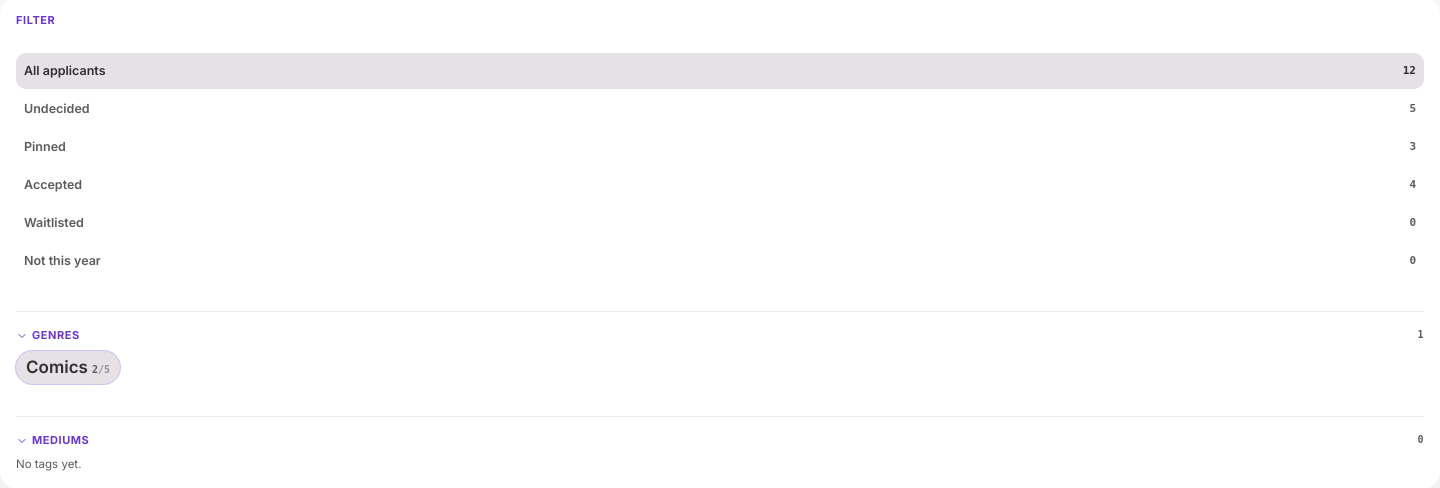
SelectionSidebar › collapses the tag section when the header toggle is clicked
expect the text "Comics" is shown: met, box [26,355,88,380]
Click the button "Genres 1" at point(56, 335), box [16,328,1424,343]
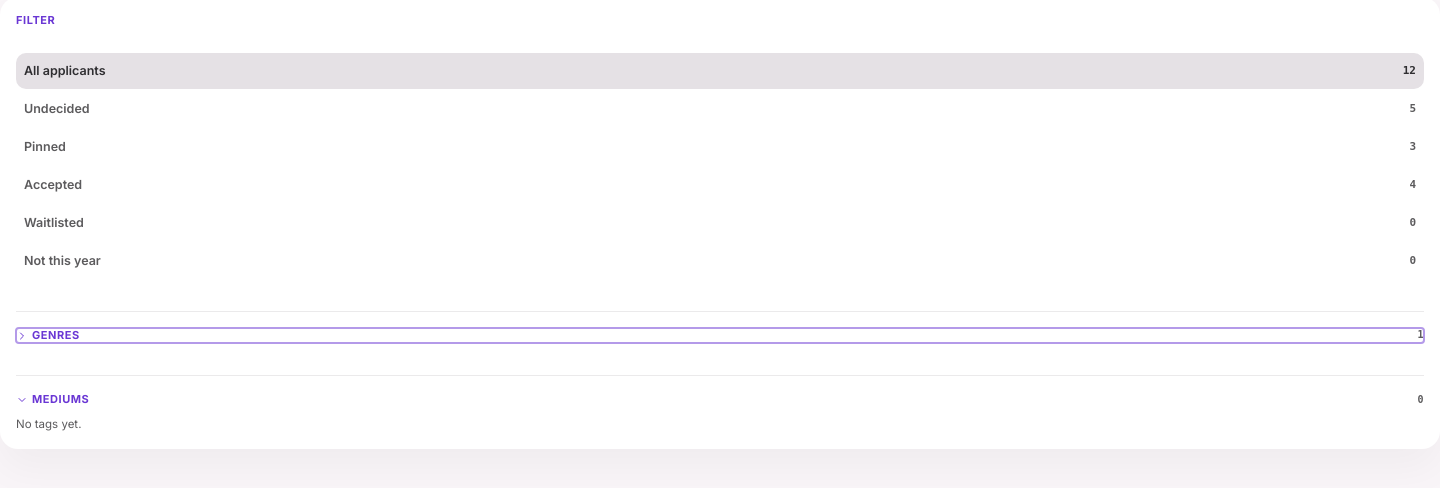
expect the text "Comics" is gone: met
